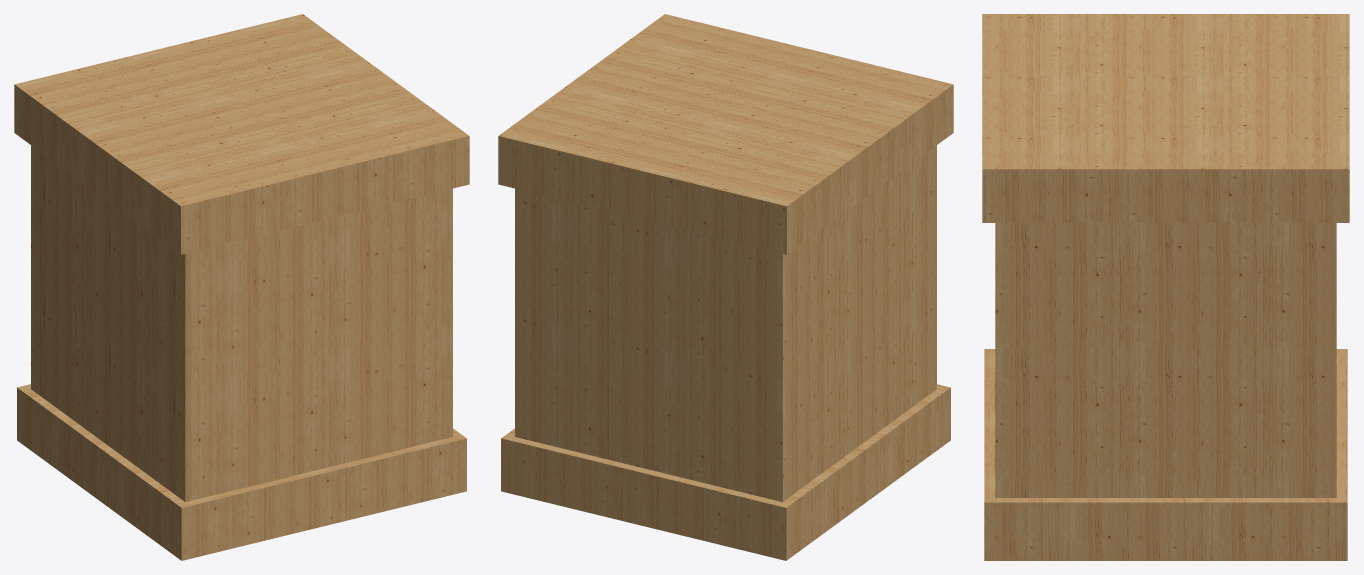
Rendered from caja_madera_cerrada.fbx.
3 views of the same model, side by side, from view 1: azimuth 30°, elevation 25°; view 2: azimuth 150°, elevation 25°; view 3: azimuth 270°, elevation 25° (orthographic). The views are drawn at different scales.
Parts seen in each view (by area): view 1: closedWoodenCrate:Mesh; view 2: closedWoodenCrate:Mesh; view 3: closedWoodenCrate:Mesh.
Part boxes in pixels (x1,y1,x2,y2): closedWoodenCrate:Mesh: (14, 14, 469, 560); closedWoodenCrate:Mesh: (498, 14, 953, 560); closedWoodenCrate:Mesh: (982, 14, 1349, 560).
Bounding box in the file's own units: 2.02 × 2.38 × 2.02.
Materials: 1 (1 with a texture image).
